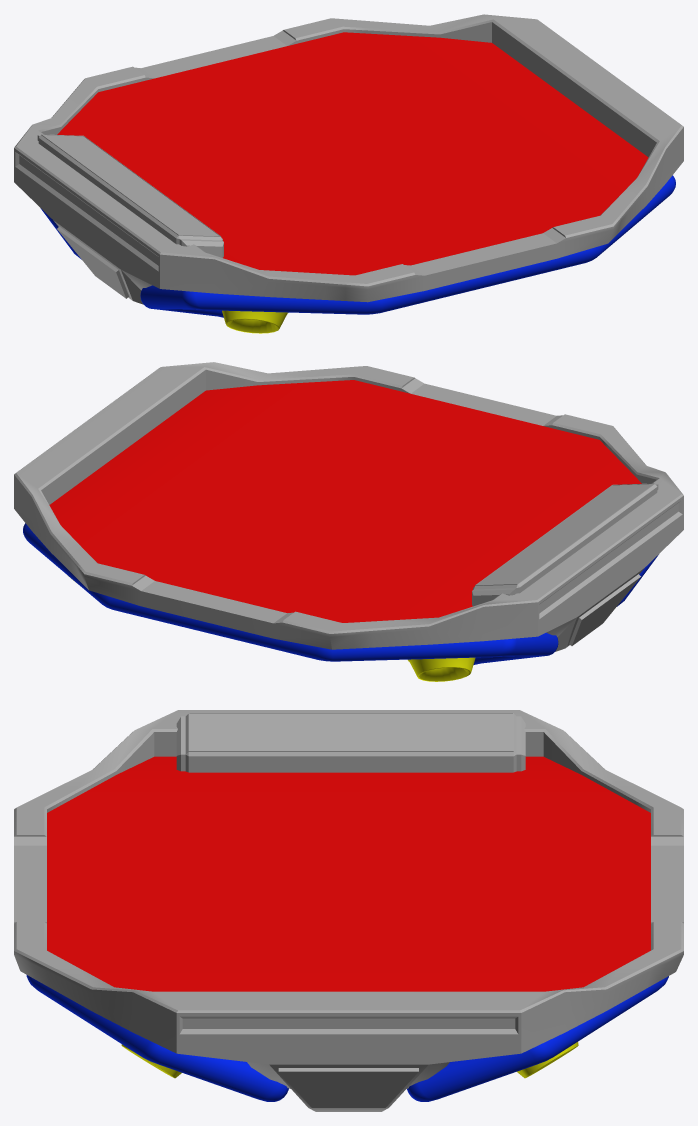
Rendered from tram.fbx.
3 renders of one model, top to bottom at view 1: azimuth 30°, elevation 25°; view 2: azimuth 150°, elevation 25°; view 3: azimuth 270°, elevation 25°, orthographic. The views are drawn at different scales.
Parts seen in each view (by area): view 1: polySurface25; view 2: polySurface25; view 3: polySurface25.
Part boxes in pixels (x1,y1,x2,y2): polySurface25: (14, 14, 683, 333); polySurface25: (14, 362, 683, 681); polySurface25: (14, 710, 683, 1111).
Bounding box in the file's own units: 13.89 × 3.2 × 12.99.
